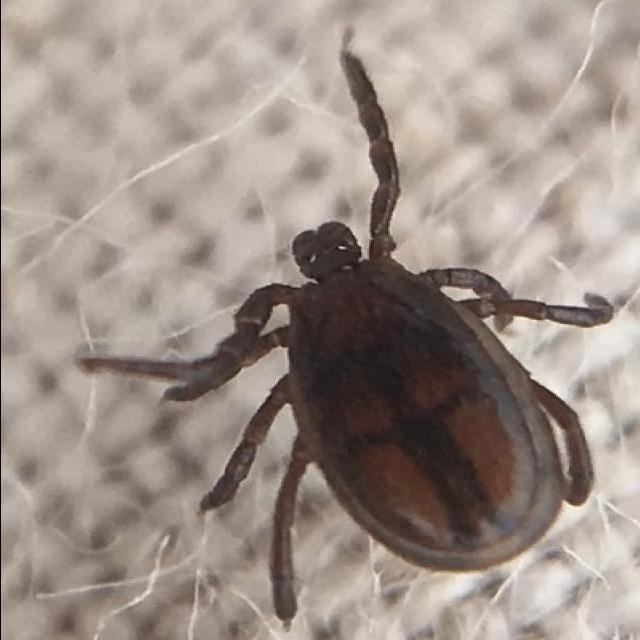Ixodes Ricinus-M: (75, 50, 613, 626)
